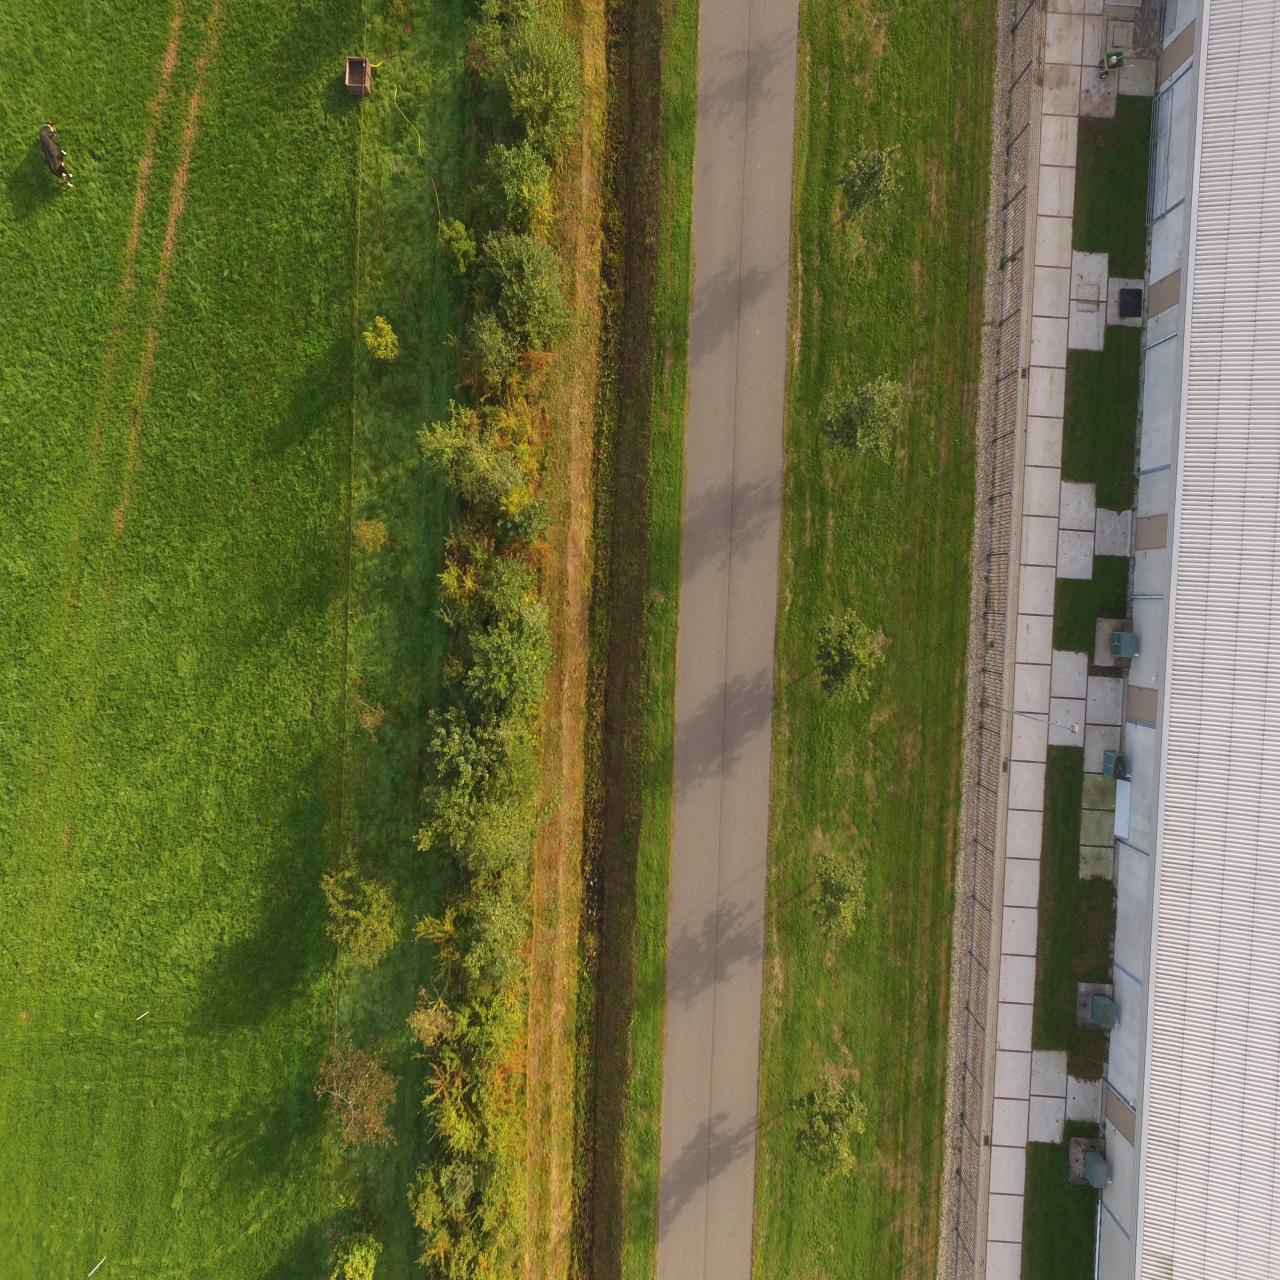cow: (36, 118, 75, 190)
